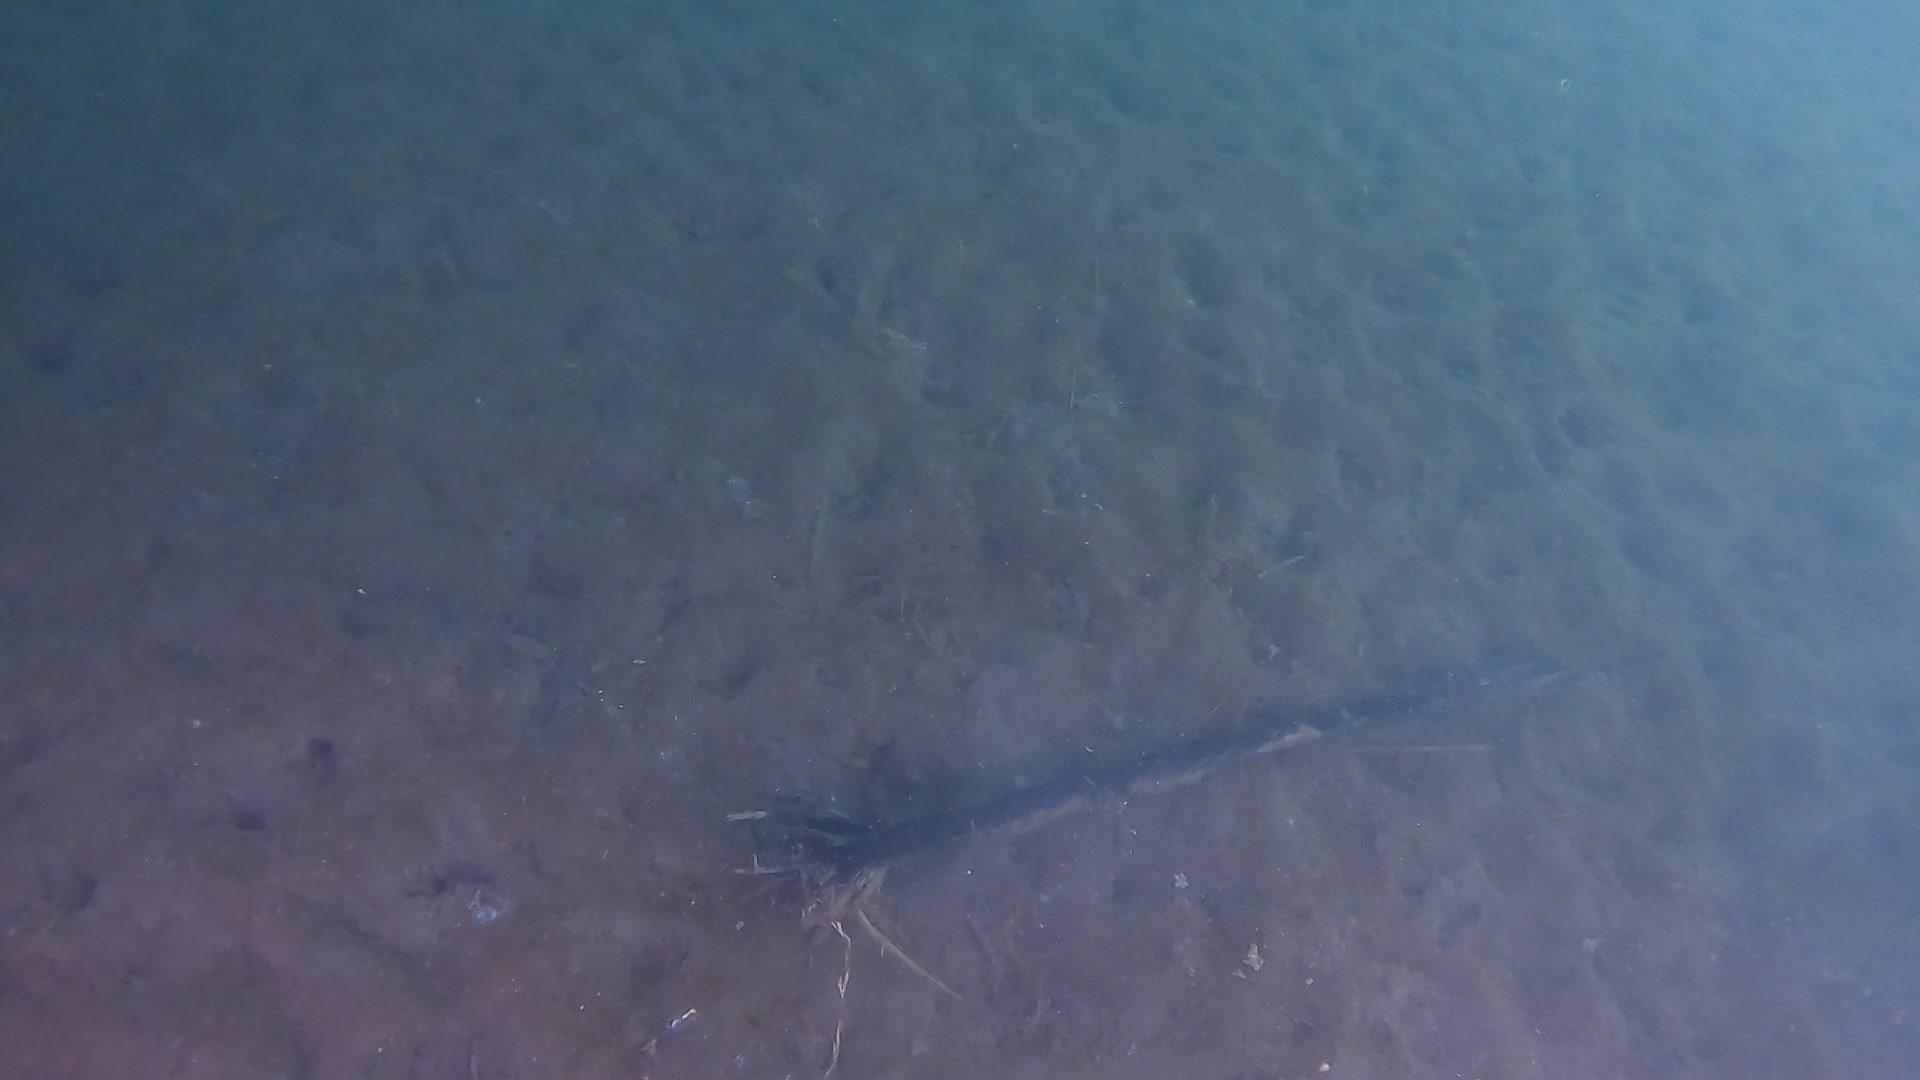wood: (723, 659, 1555, 997)
